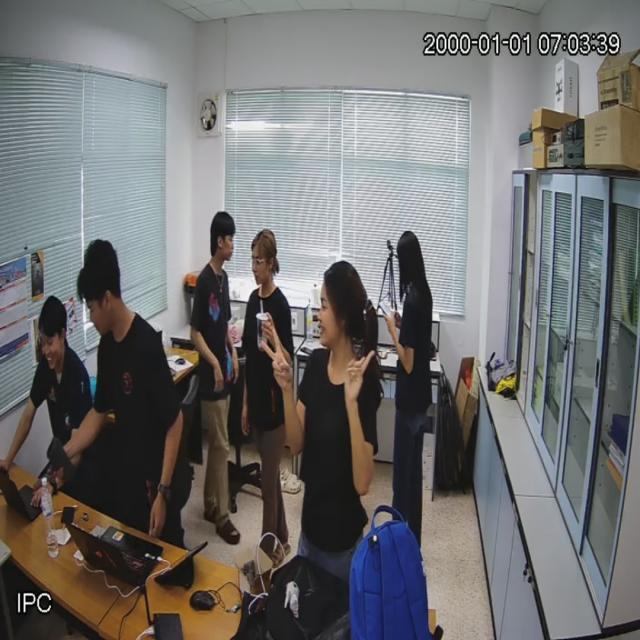normal: (74, 228, 190, 546), (295, 251, 383, 588), (184, 203, 244, 551), (384, 215, 440, 549), (241, 222, 295, 562)
